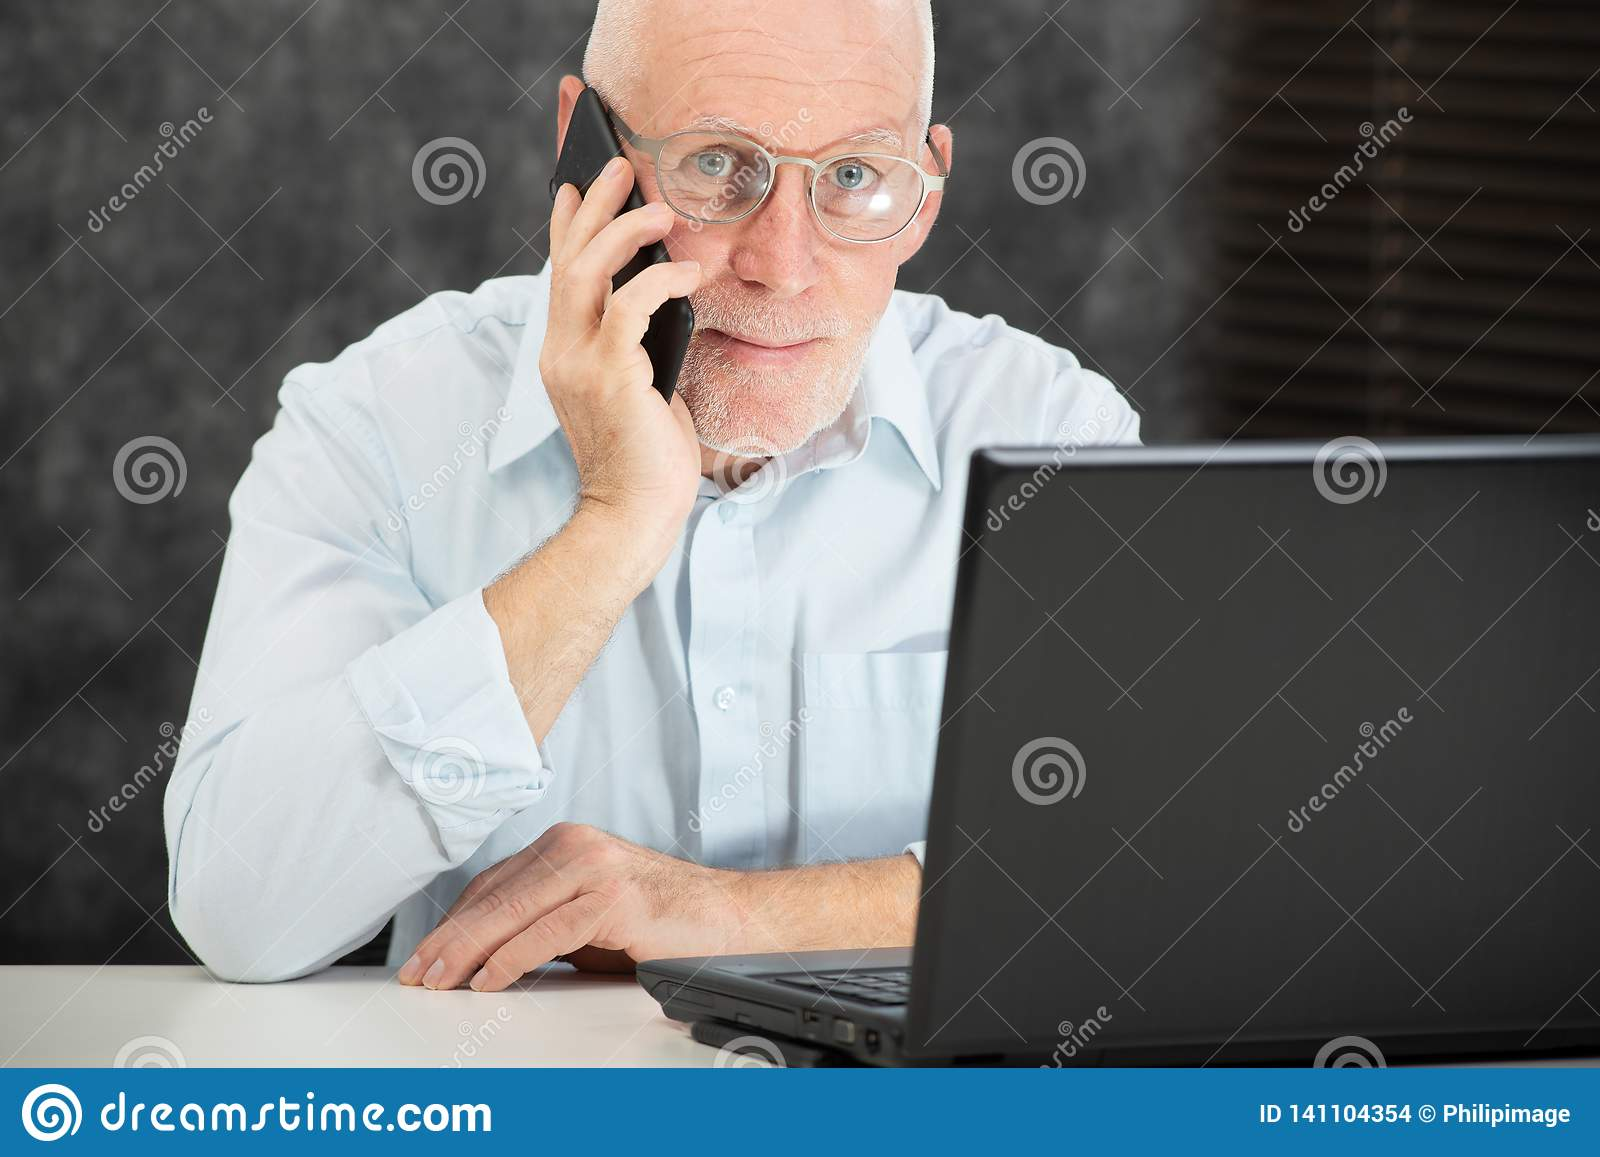phone: (545, 88, 699, 418)
talk: (535, 76, 925, 584)
